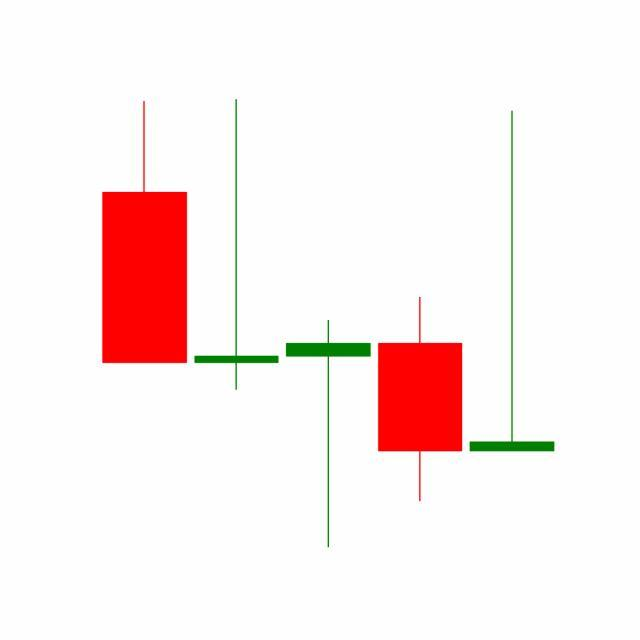Gravestone Doji: (466, 107, 559, 455)
